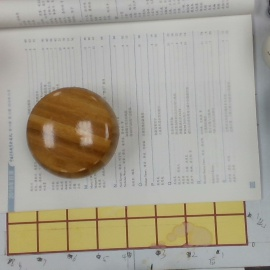chess: (27, 87, 118, 180)
